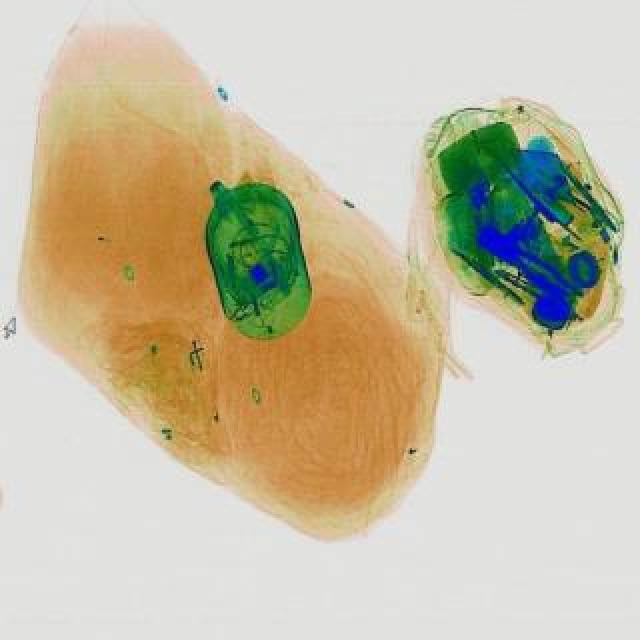wrench: (474, 220, 590, 310)
